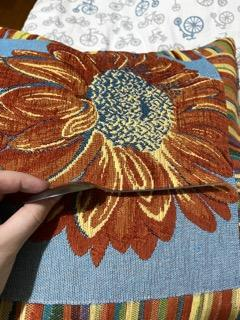spoon: (21, 179, 228, 206)
